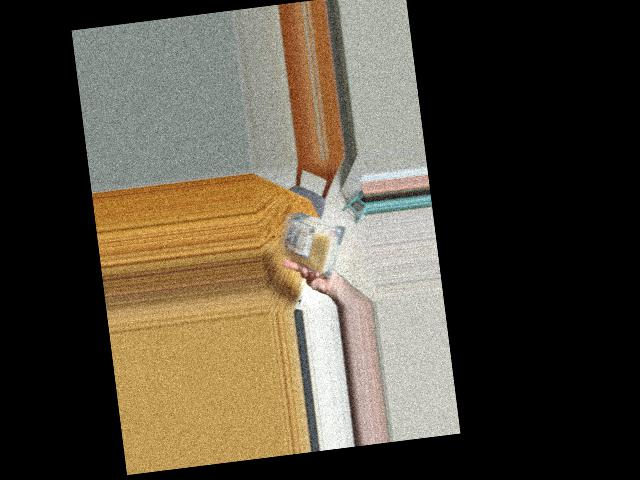cheese: (279, 207, 348, 265)
